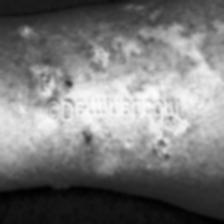Non-Cancerous Skin Condition: (9, 0, 224, 102), (40, 117, 206, 180)
